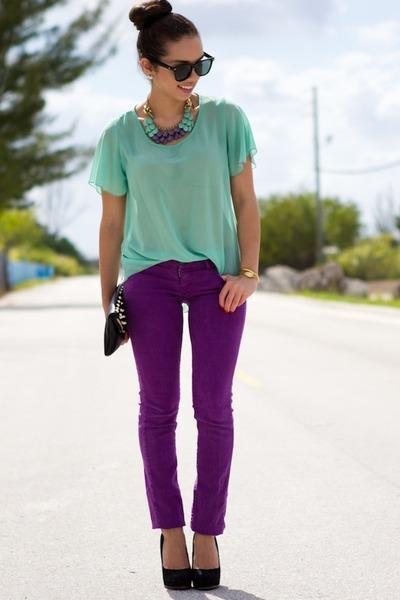bag: (104, 300, 131, 355)
pants: (126, 259, 245, 539)
shirt: (95, 101, 256, 282)
shoe: (162, 560, 220, 590)
sunglass: (163, 42, 207, 81)
